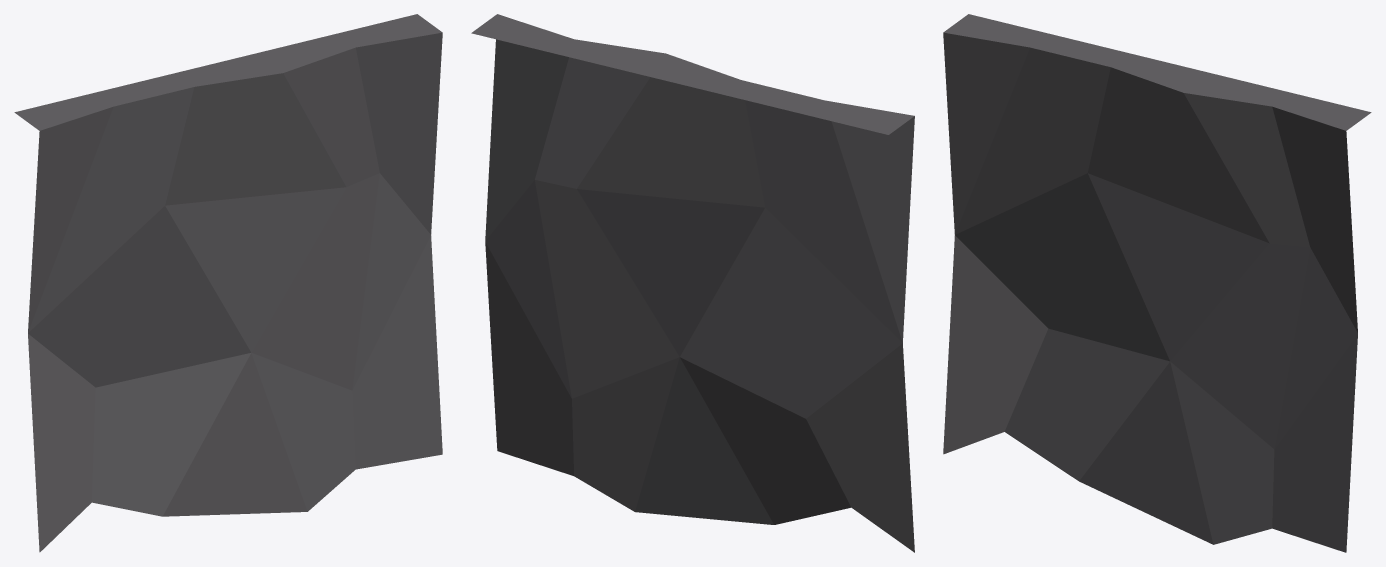
Rendered from mesh_nature_cliff_top_02.fbx.
The picture shows the model from 3 angles, left to right: view 1: azimuth 30°, elevation 25°; view 2: azimuth 150°, elevation 25°; view 3: azimuth 330°, elevation 25°; orthographic projection. The views are drawn at different scales.
Visible parts, largest first — view 1: mesh_nature_cliff_top_02; view 2: mesh_nature_cliff_top_02; view 3: mesh_nature_cliff_top_02.
Part boxes in pixels (x1,y1,x2,y2): mesh_nature_cliff_top_02: [14, 14, 442, 552]; mesh_nature_cliff_top_02: [471, 14, 914, 552]; mesh_nature_cliff_top_02: [943, 14, 1371, 552].
Bounding box in the file's own units: 200 × 212 × 23.23.
